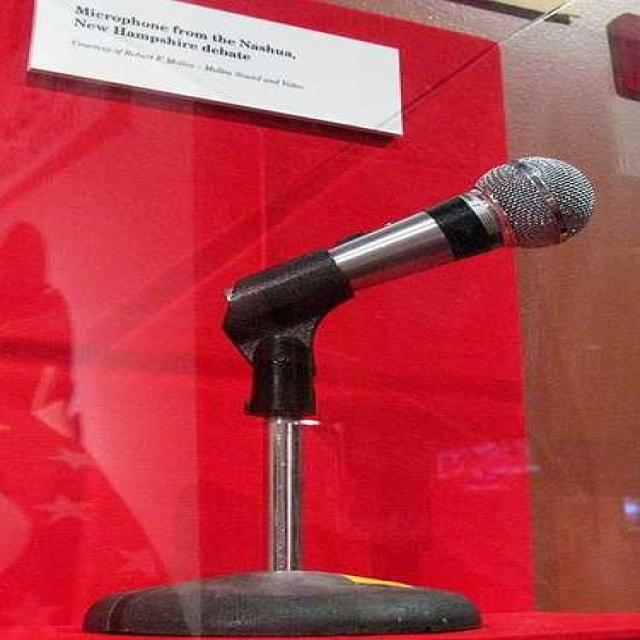microphone: (225, 158, 583, 364)
